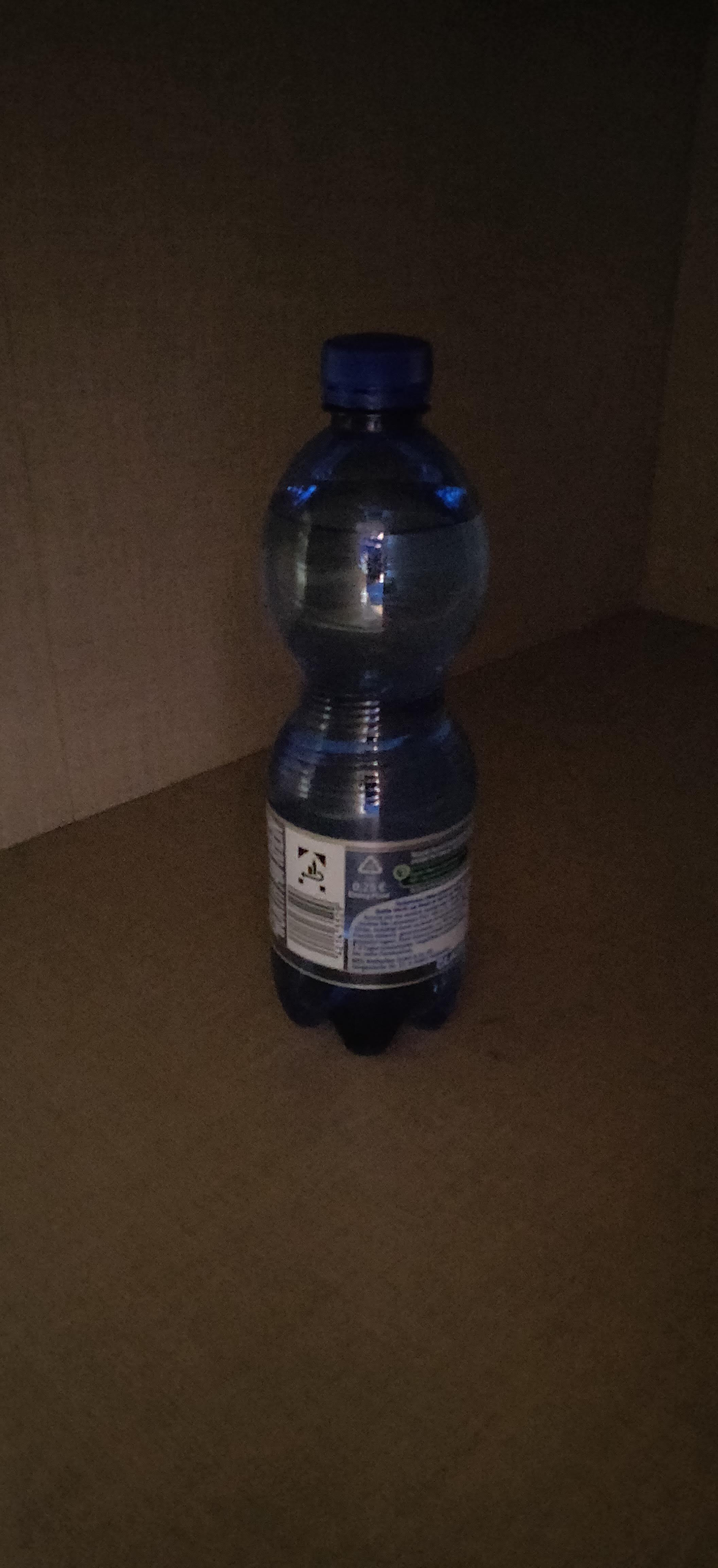bottle-plastic: (264, 339, 495, 1054)
